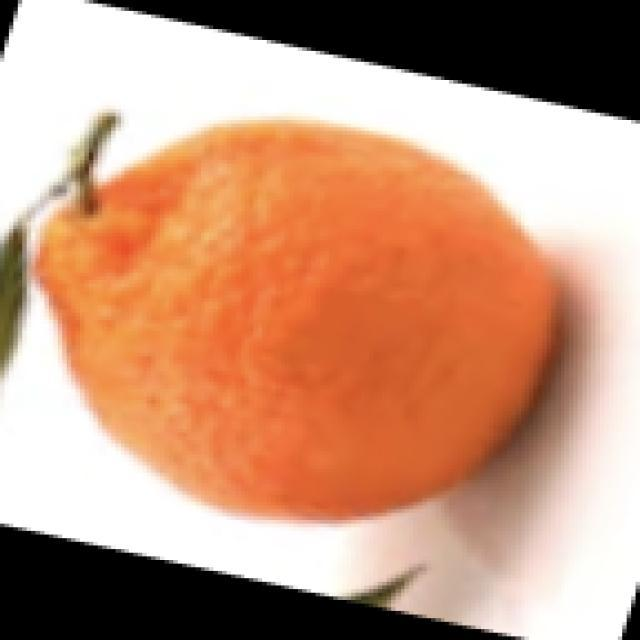Orange: (32, 115, 561, 523)
